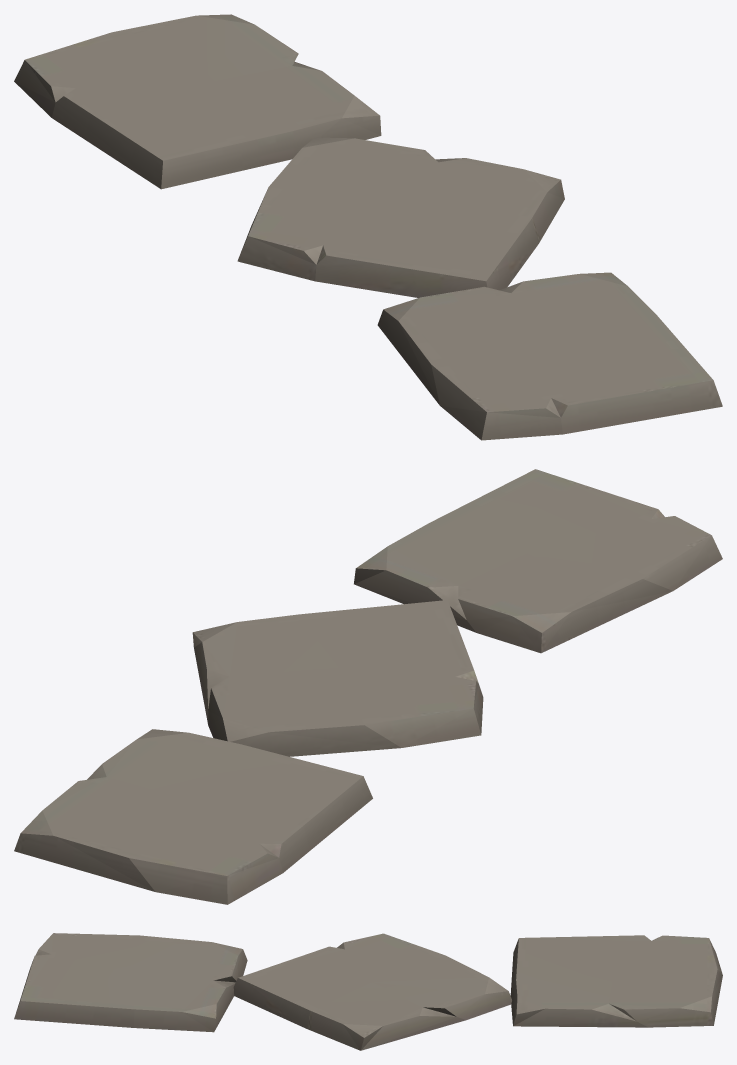
The model's file is stepping_stones.glb.
3 views of the same model, one above another, from view 1: azimuth 30°, elevation 25°; view 2: azimuth 150°, elevation 25°; view 3: azimuth 270°, elevation 25° (orthographic). The views are drawn at different scales.
Visible parts, largest first — view 1: stepping_stones; view 2: stepping_stones; view 3: stepping_stones.
Part boxes in pixels (x1,y1,x2,y2): stepping_stones: (14,14,722,440); stepping_stones: (14,469,722,904); stepping_stones: (14,933,722,1050).
Size of the model in its own units: 0.67 by 0.05 by 1.93.
Materials: 1 (1 with a texture image).
